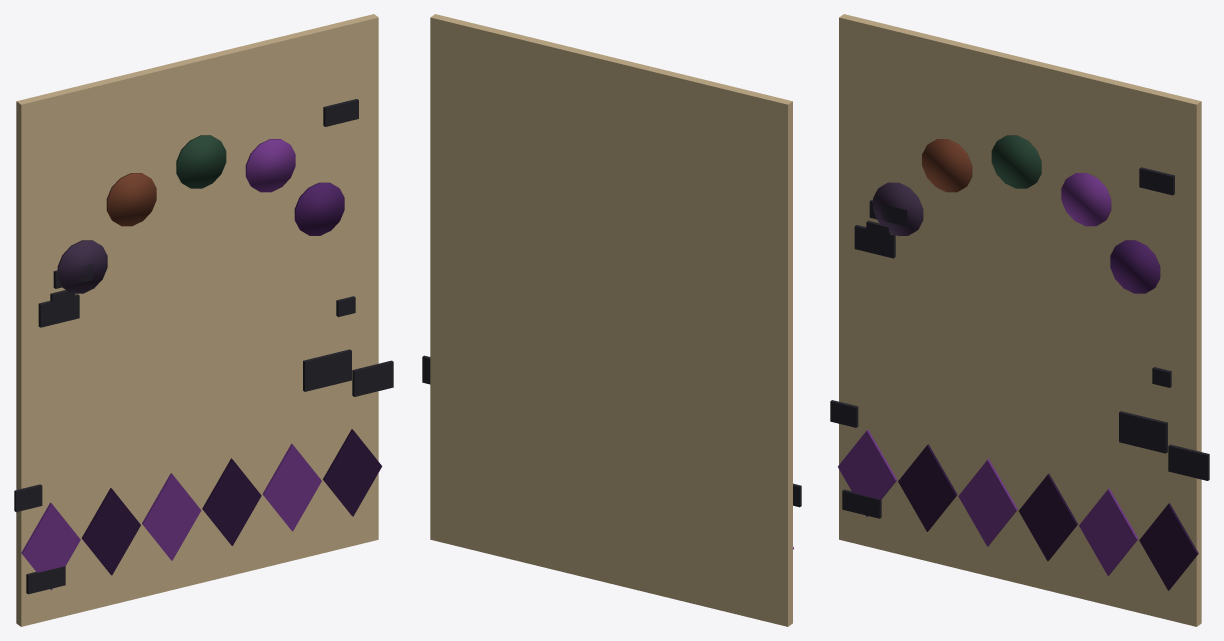
Rendered from jester_plaster.glb.
3 renders of one model, left to right at view 1: azimuth 30°, elevation 25°; view 2: azimuth 150°, elevation 25°; view 3: azimuth 330°, elevation 25°, orthographic.
Visible parts, largest first — view 1: jester_plaster; view 2: jester_plaster; view 3: jester_plaster.
Part boxes in pixels (x1,y1,x2,y2): jester_plaster: (14, 14, 393, 626); jester_plaster: (422, 14, 801, 626); jester_plaster: (830, 14, 1209, 626).
Bounding box in the file's own units: 0.9082 × 1.2 × 0.028.
